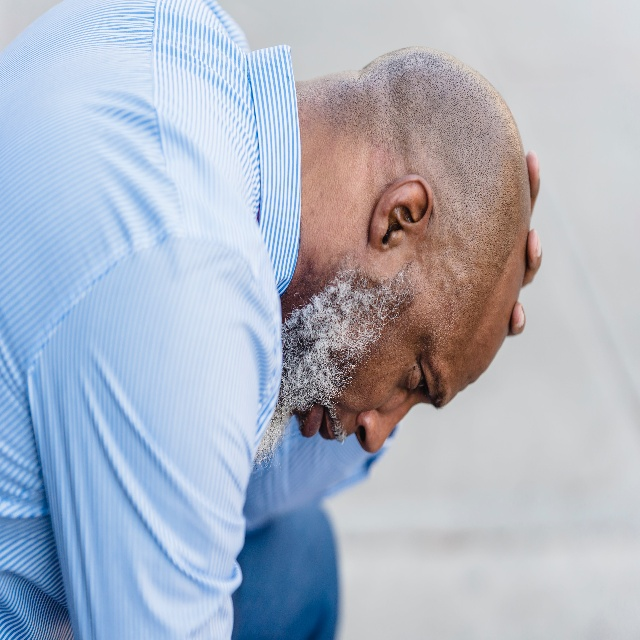Sin_guantes: (512, 145, 540, 334)
